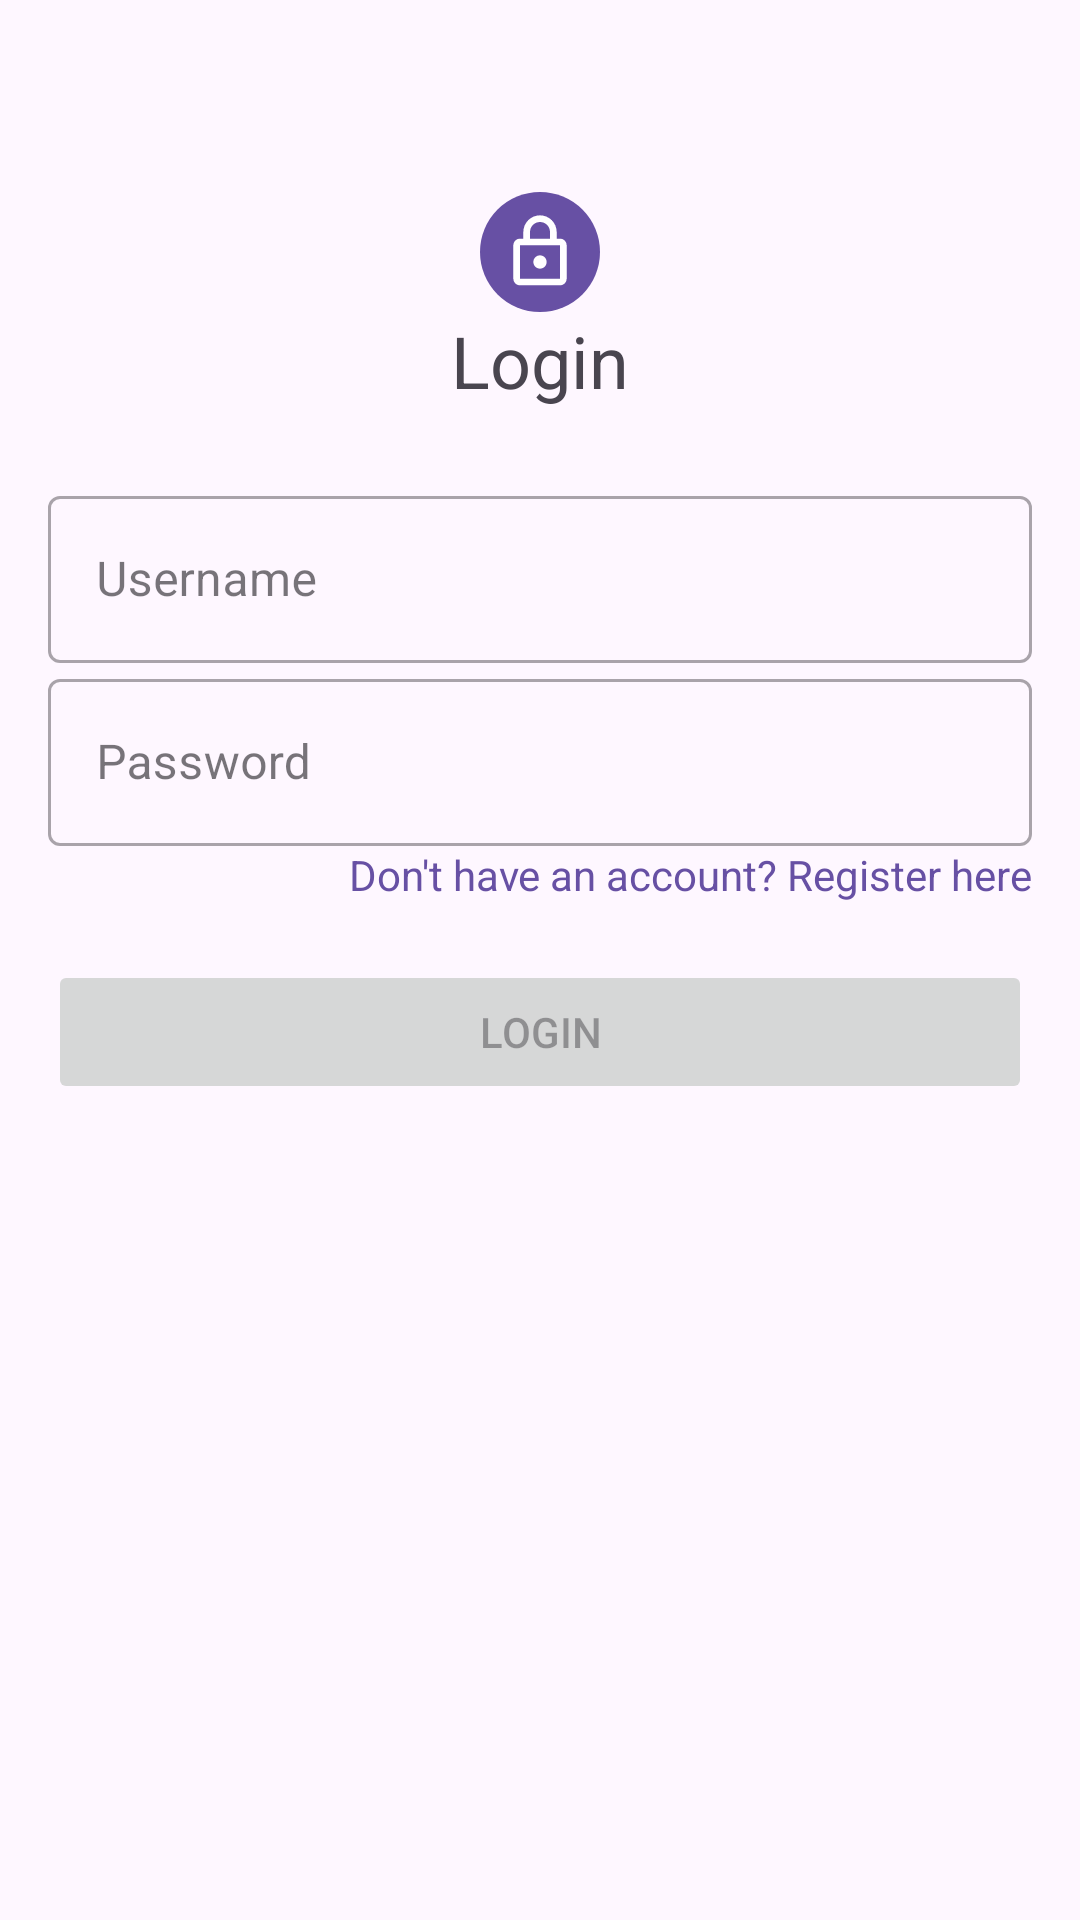

Icon click points for this 1080px×1920px phone screenshot, format [x,y]:
lock: [540,252]
